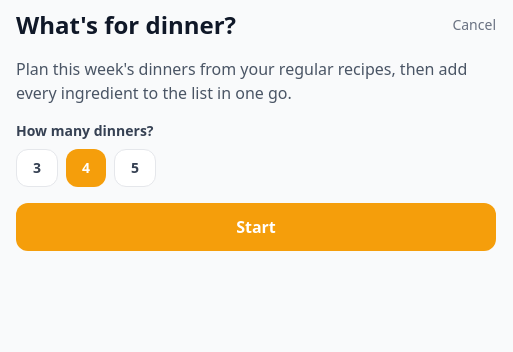
Test case: intro › requests the chosen number of dinners
Click the button "5". click: (135, 168)
box: [114,149,156,187]
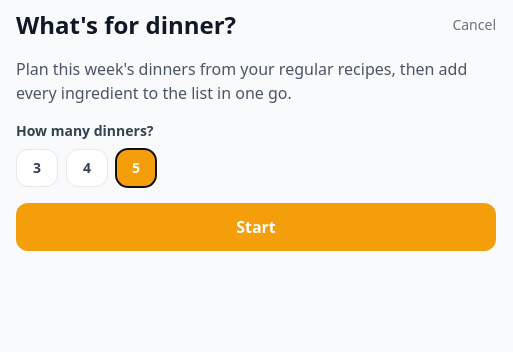
Click the button "Start". click: (256, 227)
box: [16,203,496,251]
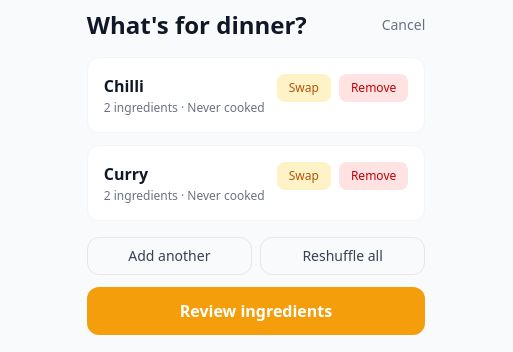
Check: the heading "Chilli" is shown, box [104,75,144,97]
